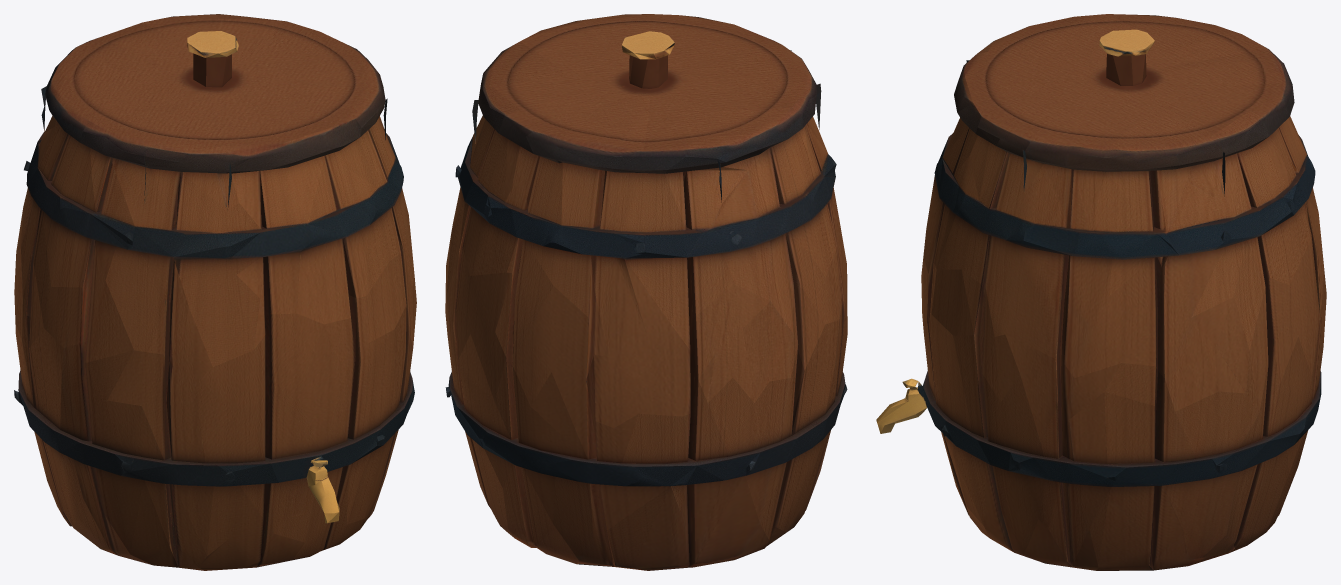
Rendered from water_butt.glb.
3 renders of one model, left to right at view 1: azimuth 30°, elevation 25°; view 2: azimuth 150°, elevation 25°; view 3: azimuth 270°, elevation 25°, orthographic.
Size of the model in its own units: 1.49 by 1.9 by 1.66.
Materials: 1 (1 with a texture image).
